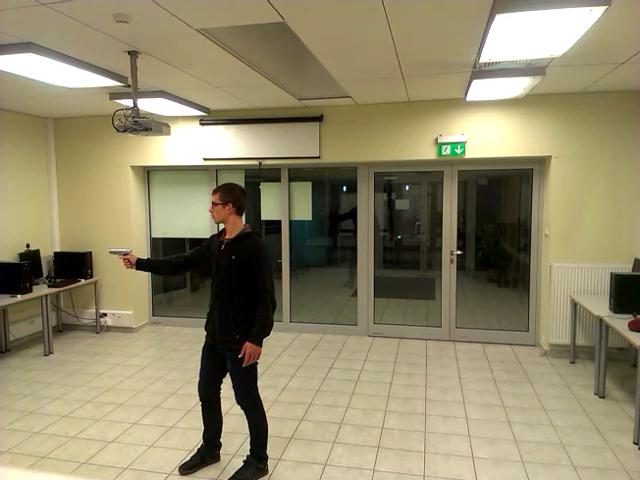gun: (98, 232, 145, 284)
